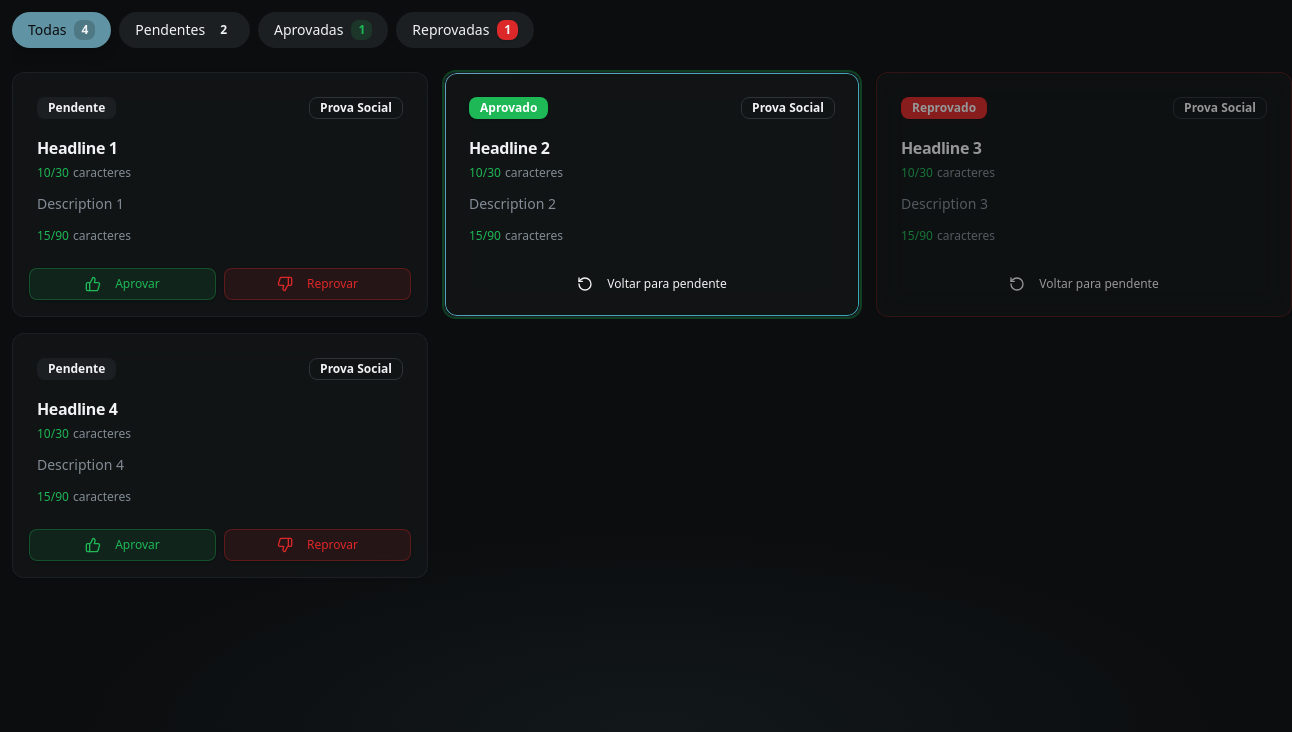
Test: VariationGrid › should filter by rejected when clicking Reprovadas
The image size is (1292, 732).
Click the button "Reprovadas 1".
click(465, 30)  # box [396,12,534,48]
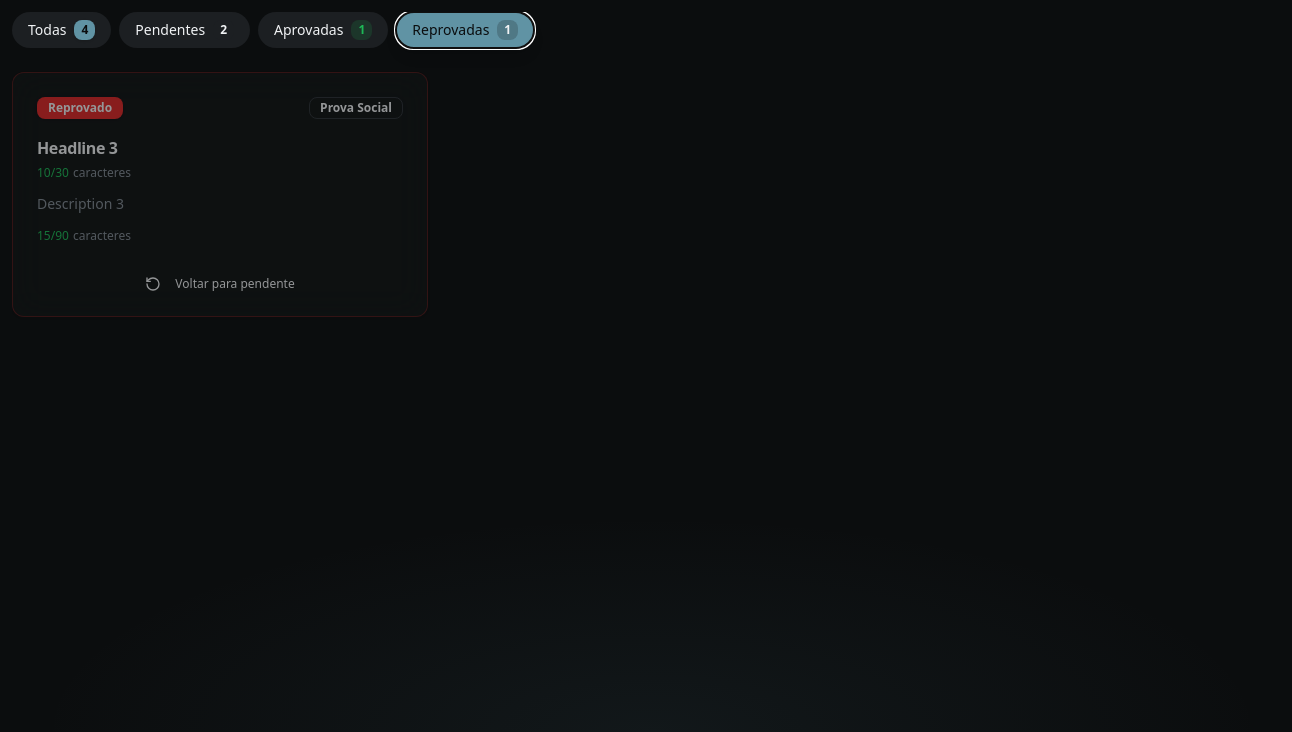
Check: the text "Headline 1" is gone
Check: the text "Headline 2" is gone
Check: the text "Headline 4" is gone
